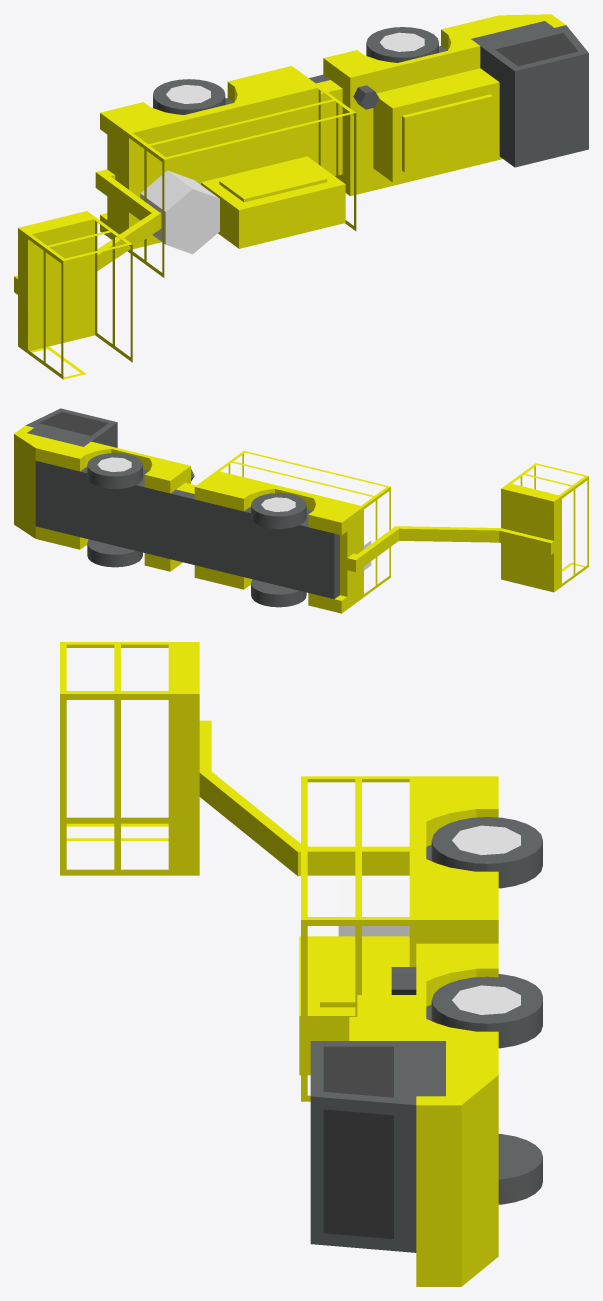
File: anfo_charger_1_state_1.dae
3 views of the same model, one above another, from view 1: azimuth 30°, elevation 25°; view 2: azimuth 150°, elevation 25°; view 3: azimuth 270°, elevation 25° (orthographic). The views are drawn at different scales.
Visible parts, largest first — view 1: coords_ME_ID21_MA_material_0, coords_ME_ID117_MA_material_4, coords_ME_ID12_MA_material_0, coords_ME_ID27_MA_material_0, coords_ME_ID177_MA_material_0, coords_ME_ID125_MA_material_5, coords_ME_ID133_MA_material, coords_ME_ID4_MA_material, coords_ME_ID165_MA_material_0, coords_ME_ID33_MA_material_1, coords_ME_ID47_MA_material_1, coords_ME_ID153_MA_material_6 (+3 smaller); view 2: coords_ME_ID67_MA_material_3, coords_ME_ID21_MA_material_0, coords_ME_ID12_MA_material_0, coords_ME_ID133_MA_material, coords_ME_ID117_MA_material_4, coords_ME_ID75_MA_material, coords_ME_ID4_MA_material, coords_ME_ID33_MA_material_1, coords_ME_ID47_MA_material_1, coords_ME_ID53_MA_material_1, coords_ME_ID41_MA_material_1, coords_ME_ID153_MA_material_6 (+4 smaller); view 3: coords_ME_ID21_MA_material_0, coords_ME_ID117_MA_material_4, coords_ME_ID159_MA_material_6, coords_ME_ID4_MA_material, coords_ME_ID133_MA_material, coords_ME_ID12_MA_material_0, coords_ME_ID47_MA_material_1, coords_ME_ID33_MA_material_1, coords_ME_ID165_MA_material_0, coords_ME_ID27_MA_material_0, coords_ME_ID75_MA_material, coords_ME_ID153_MA_material_6 (+4 smaller).
Part boxes in pixels (x1=…): coords_ME_ID21_MA_material_0: x1=95, y1=14, x2=565, y2=249; coords_ME_ID117_MA_material_4: x1=471, y1=21, x2=588, y2=167; coords_ME_ID12_MA_material_0: x1=18, y1=211, x2=94, y2=351; coords_ME_ID27_MA_material_0: x1=201, y1=156, x2=345, y2=248; coords_ME_ID177_MA_material_0: x1=402, y1=94, x2=492, y2=172; coords_ME_ID125_MA_material_5: x1=140, y1=170, x2=219, y2=254; coords_ME_ID133_MA_material: x1=126, y1=85, x2=356, y2=277; coords_ME_ID4_MA_material: x1=26, y1=217, x2=132, y2=379; coords_ME_ID165_MA_material_0: x1=219, y1=161, x2=327, y2=202; coords_ME_ID33_MA_material_1: x1=366, y1=27, x2=438, y2=62; coords_ME_ID47_MA_material_1: x1=153, y1=79, x2=225, y2=114; coords_ME_ID153_MA_material_6: x1=495, y1=33, x2=578, y2=66; coords_ME_ID67_MA_material_3: x1=35, y1=461, x2=334, y2=598; coords_ME_ID21_MA_material_0: x1=14, y1=425, x2=399, y2=613; coords_ME_ID12_MA_material_0: x1=501, y1=484, x2=560, y2=592; coords_ME_ID133_MA_material: x1=215, y1=451, x2=390, y2=597; coords_ME_ID117_MA_material_4: x1=25, y1=408, x2=117, y2=447; coords_ME_ID75_MA_material: x1=394, y1=526, x2=500, y2=542; coords_ME_ID4_MA_material: x1=507, y1=463, x2=588, y2=587; coords_ME_ID33_MA_material_1: x1=87, y1=453, x2=142, y2=488; coords_ME_ID47_MA_material_1: x1=251, y1=493, x2=306, y2=528; coords_ME_ID53_MA_material_1: x1=87, y1=539, x2=142, y2=567; coords_ME_ID41_MA_material_1: x1=251, y1=579, x2=306, y2=607; coords_ME_ID153_MA_material_6: x1=39, y1=412, x2=108, y2=435; coords_ME_ID21_MA_material_0: x1=298, y1=776, x2=498, y2=1286; coords_ME_ID117_MA_material_4: x1=310, y1=1041, x2=445, y2=1252; coords_ME_ID159_MA_material_6: x1=323, y1=1109, x2=393, y2=1238; coords_ME_ID4_MA_material: x1=60, y1=642, x2=174, y2=875; coords_ME_ID133_MA_material: x1=301, y1=776, x2=416, y2=1101; coords_ME_ID12_MA_material_0: x1=175, y1=642, x2=199, y2=875; coords_ME_ID47_MA_material_1: x1=431, y1=817, x2=542, y2=888; coords_ME_ID33_MA_material_1: x1=431, y1=976, x2=542, y2=1048; coords_ME_ID165_MA_material_0: x1=320, y1=940, x2=395, y2=1007; coords_ME_ID27_MA_material_0: x1=299, y1=936, x2=409, y2=1075; coords_ME_ID75_MA_material: x1=199, y1=772, x2=300, y2=875; coords_ME_ID153_MA_material_6: x1=323, y1=1046, x2=393, y2=1097.
Size of the model in its own units: 133 by 24.36 by 58.71.
